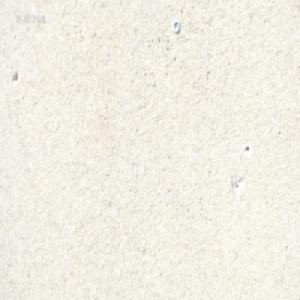Washer: (172, 19, 180, 33)
